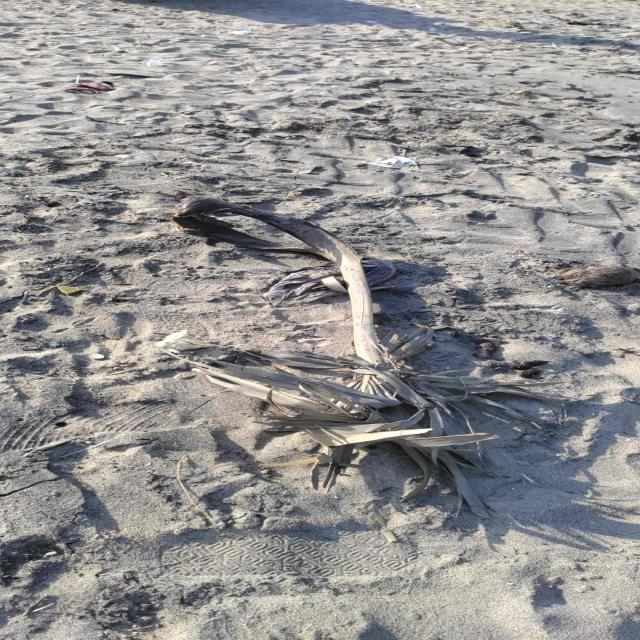rac_huu_co: (156, 196, 569, 518), (555, 263, 640, 287)
vai_vun: (260, 266, 346, 307), (361, 258, 396, 290)
